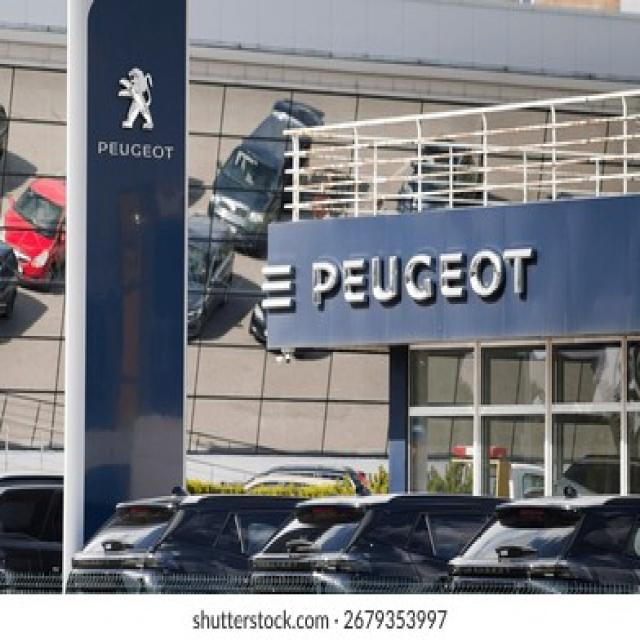pegout: (116, 62, 157, 133)
